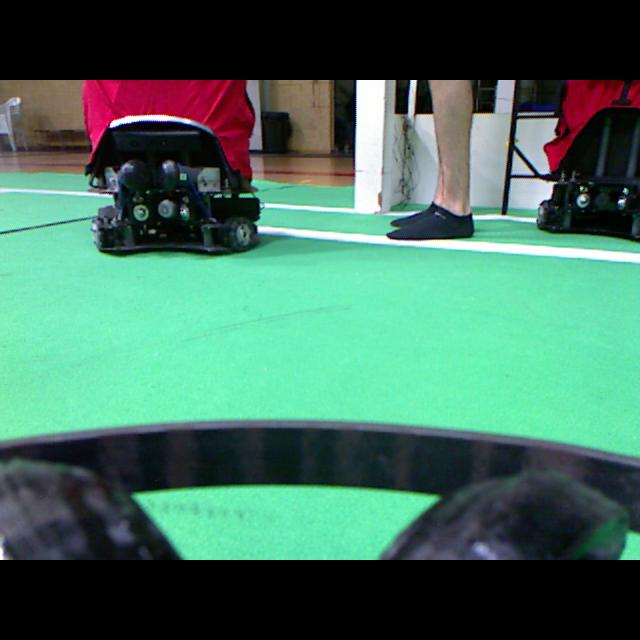goal: (354, 80, 385, 212)
